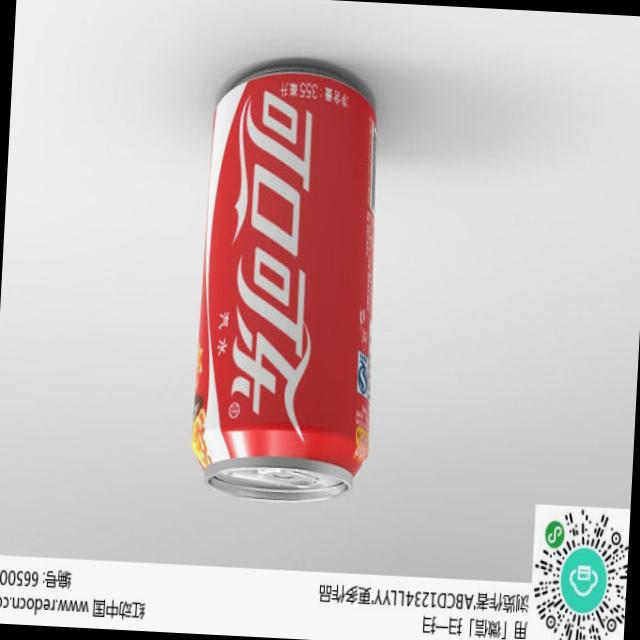can: (184, 56, 392, 510)
